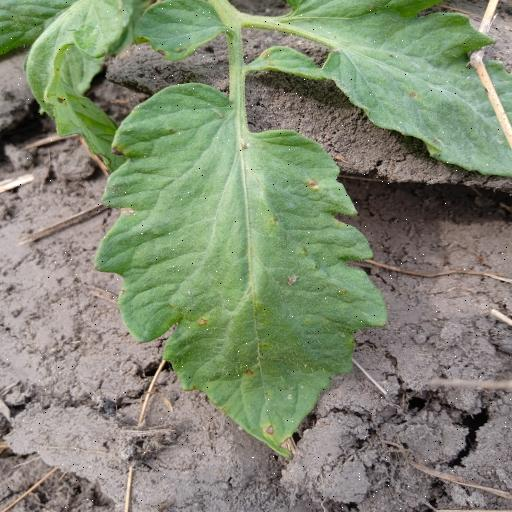Tomato_Brown_Spots: (97, 78, 395, 459), (265, 0, 512, 177)
